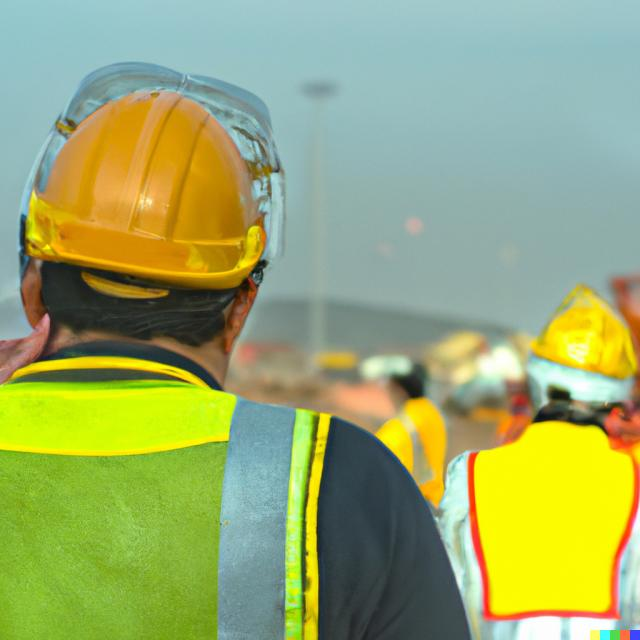Reflective-Jacket: (2, 362, 360, 640), (457, 424, 637, 627)
Safety-Helmet: (20, 81, 275, 286), (524, 283, 640, 378)
